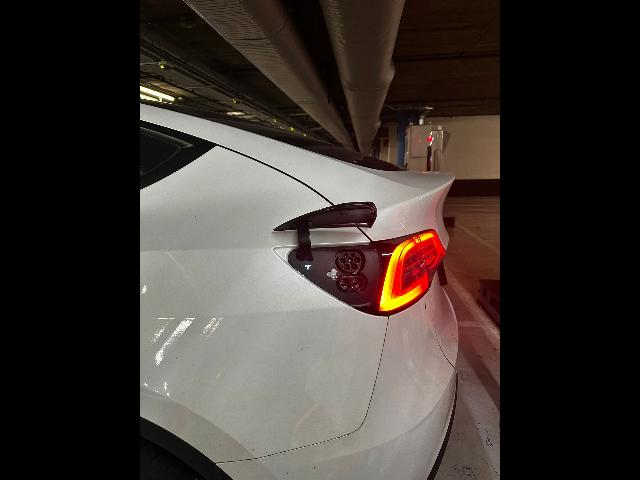inlet: (338, 252, 362, 272)
inlet-above-left: (344, 253, 348, 258)
inlet-above-right: (351, 253, 355, 257)
inlet-below-left: (343, 264, 350, 270)
inlet-below-right: (351, 263, 358, 270)
inlet-circle: (347, 257, 353, 264)
inlet-circle-left: (339, 258, 346, 264)
inlet-circle-right: (354, 256, 361, 263)
inlet-minus: (352, 277, 364, 288)
inlet-plus: (340, 278, 351, 289)
